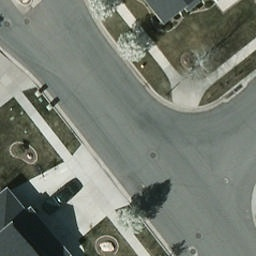car: (39, 182, 81, 218)
